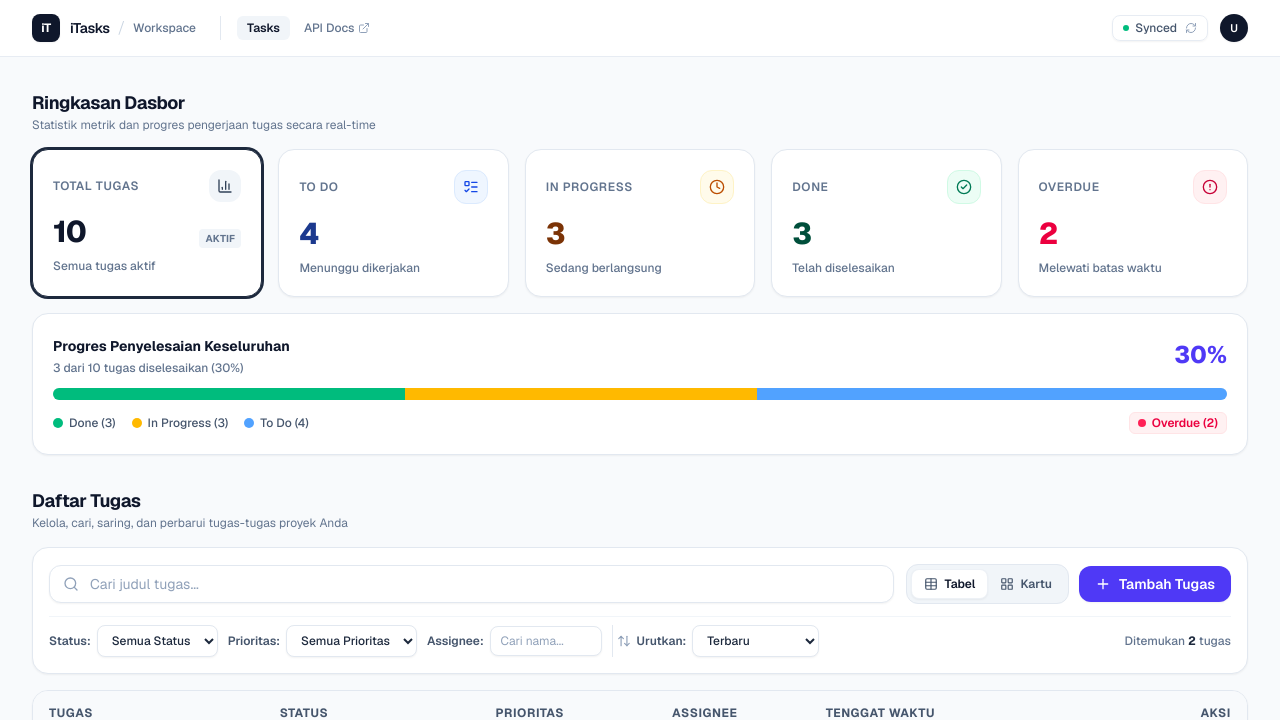
HomePage › modal form › Tambah Tugas membuka form kosong dan submit memanggil createTask
The width and height of the screenshot is (1280, 720).
Click the button "Tambah Tugas" at coordinates (1155, 584), box [1079,566,1231,602]
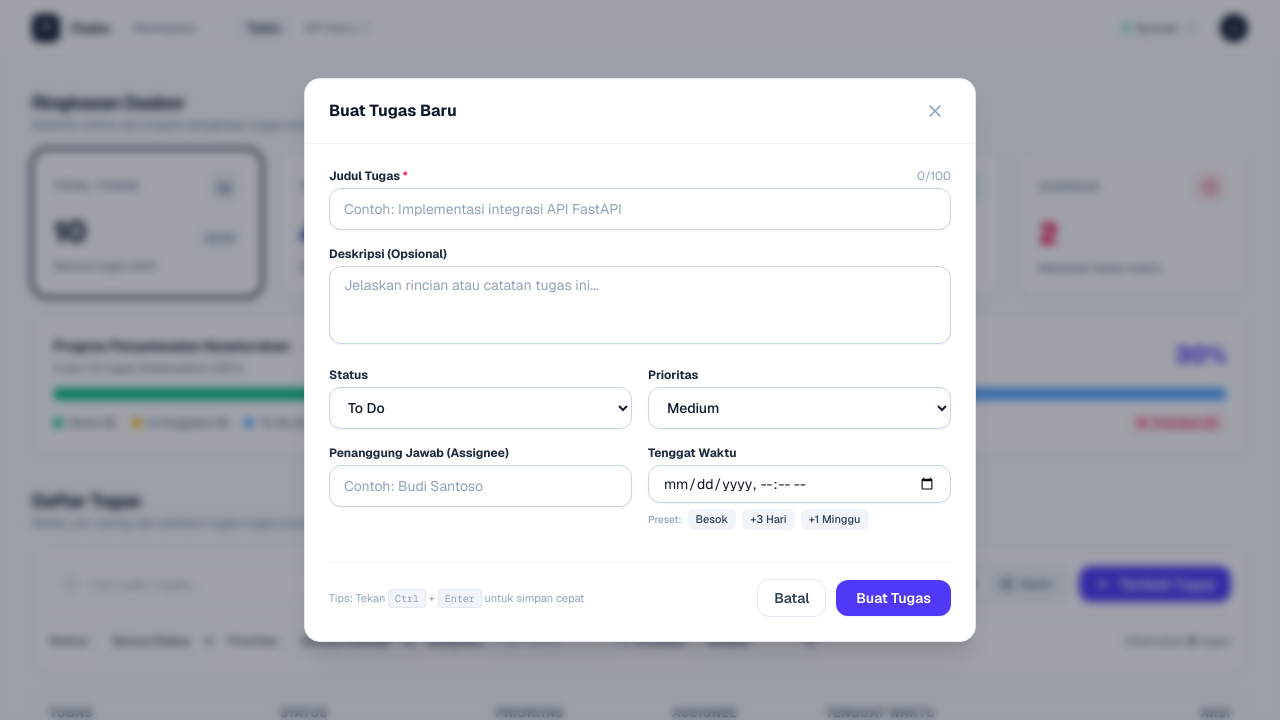
Check: the dialog "Buat Tugas Baru" is shown, box [304,78,976,642]
Check: the field labelled "Judul Tugas *" is empty
Type "Tugas Baru" into the field labelled "Judul Tugas *" at coordinates (640, 209), box [329,188,951,230]
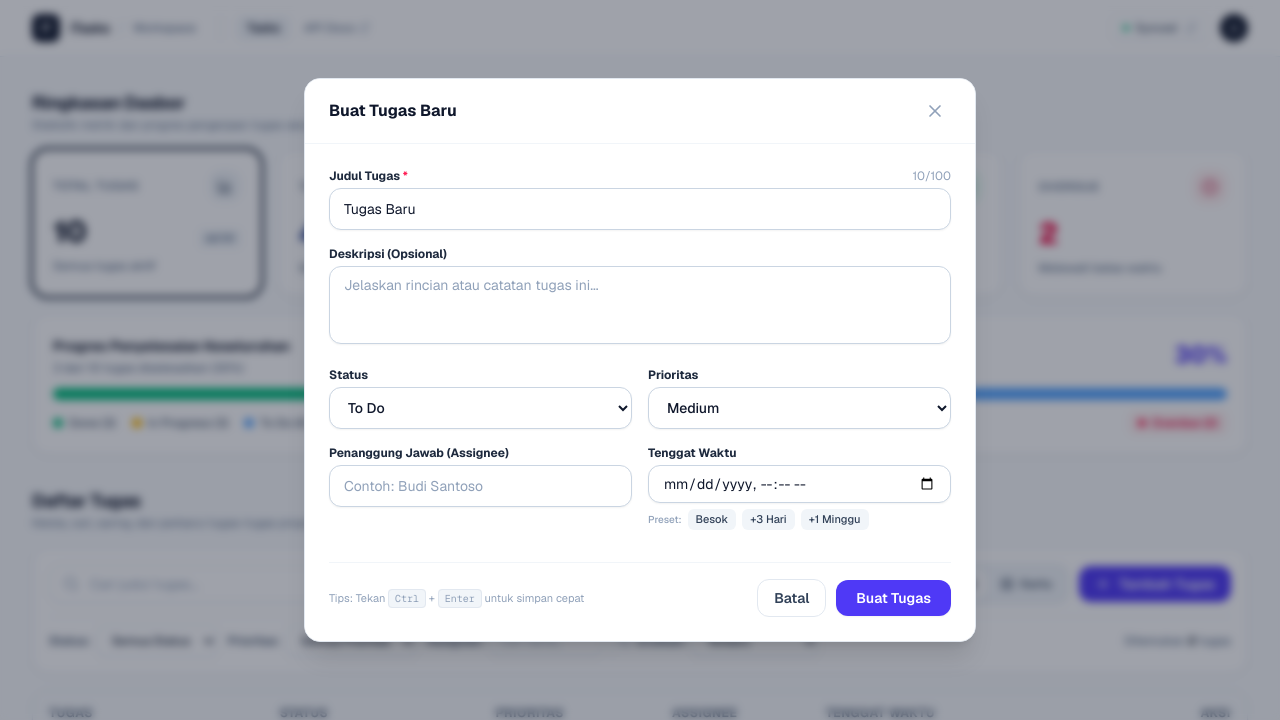
Click the button "Buat Tugas" at coordinates (894, 598), box [836,580,951,616]
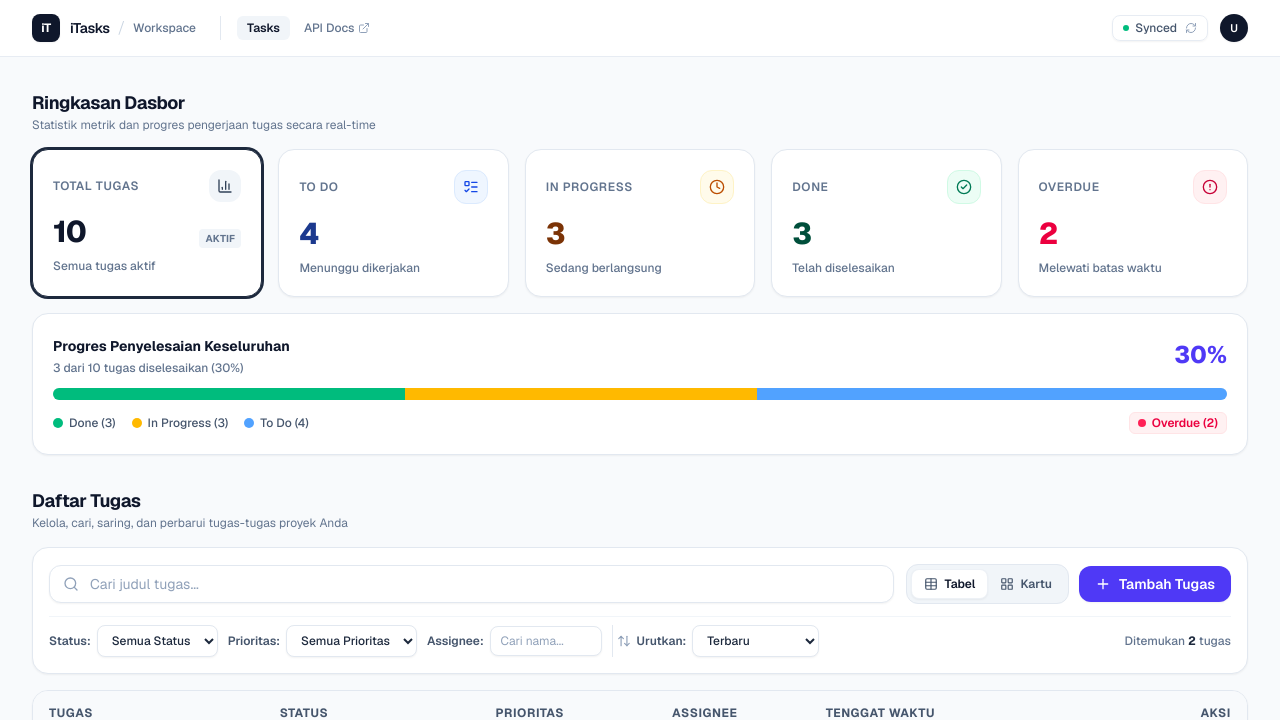
Check: the dialog is gone
